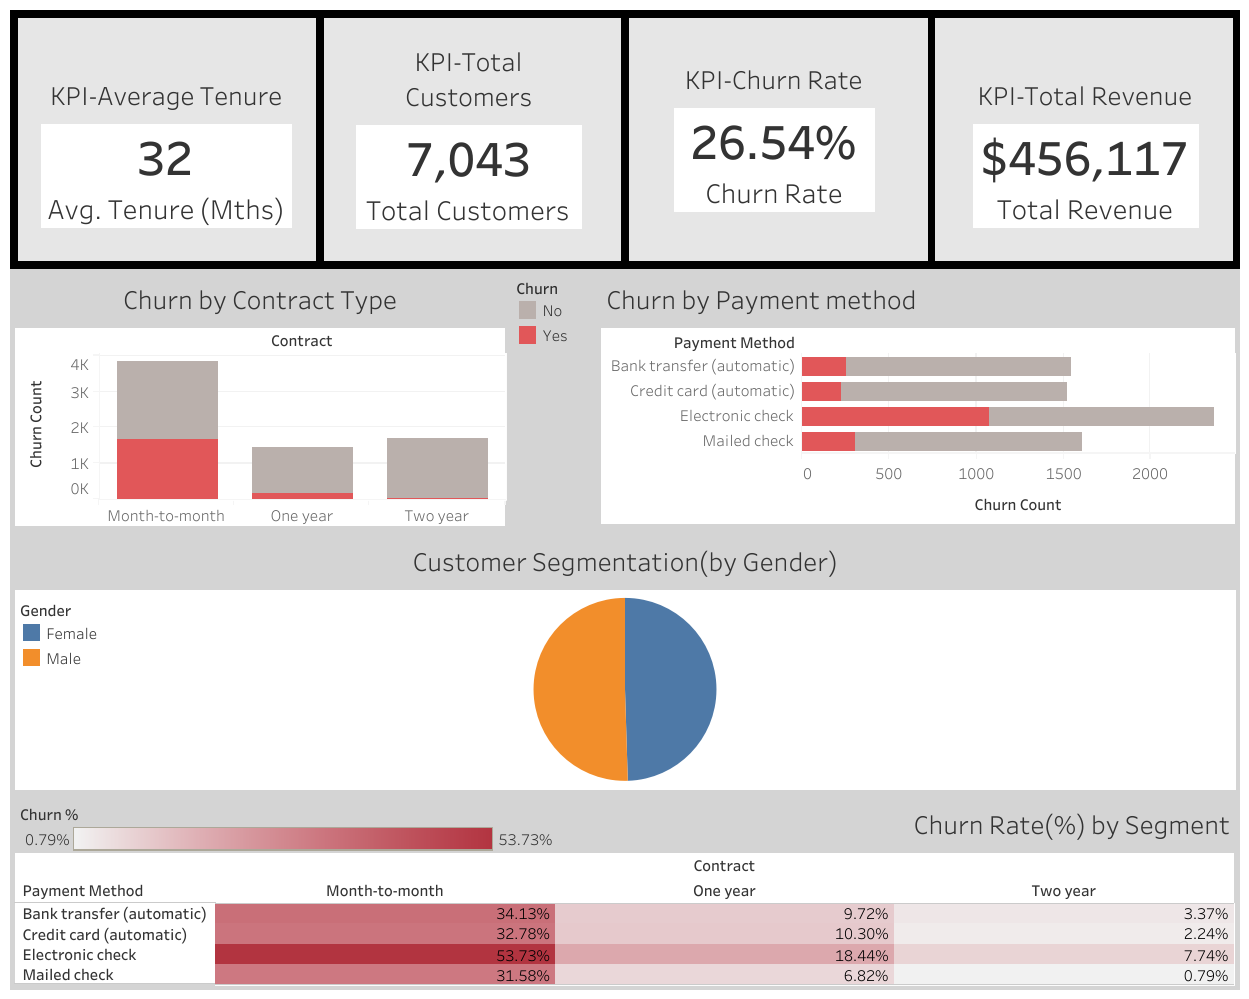

The page's visual inventory and layout, read from the dashboard file:
{"tool":"tableau","page":{"name":"Customer Behavior Analysis (Telco)","canvas":[1000,800],"ordinal":0},"visuals":[{"type":"worksheet","title":"KPI-Average Tenure","mark":"Text","box":[11,11,244.5,201.5]},{"type":"worksheet","title":"KPI-Total Customers","mark":"Text","box":[255.5,11,244.5,201.5]},{"type":"worksheet","title":"KPI-Churn Rate","mark":"Text","box":[500,11,244.5,201.5]},{"type":"worksheet","title":"KPI-Total Revenue","mark":"Text","box":[744.5,11,244.5,201.5]},{"type":"worksheet","title":"Churn by Contract Type","mark":"Bar","rows":["Churn"],"cols":["Contract"],"box":[8,215.5,400,209.5]},{"type":"legend","title":"Churn by Contract Type","param":"[federated.07s0cg114vwj2x13jrnb00qm2zwm].[none:Churn:nk]","box":[408,215.5,69,209.5]},{"type":"worksheet","title":"Churn by Payment method","mark":"Bar","rows":["PaymentMethod"],"cols":["Churn"],"box":[477,215.5,515,208]},{"type":"worksheet","title":"Customer Segmentation","mark":"Pie","box":[8,425,984,210]},{"type":"legend","title":"Customer Segmentation","param":"[federated.07s0cg114vwj2x13jrnb00qm2zwm].[none:gender:nk]","box":[15,477,327,59]},{"type":"worksheet","title":"Churn Rate(%) by Segment","mark":"Square","rows":["PaymentMethod"],"cols":["Contract"],"box":[8,635,984,157]},{"type":"legend","title":"Churn Rate(%) by Segment","param":"[federated.07s0cg114vwj2x13jrnb00qm2zwm].[usr:Calculation_1125955483107384:qk]","box":[16,638,431,61]}]}

Visuals, with their boxes in screenshot pixels (x1, y1, x2, y2), scaled from the page's 1000x800 canvas onto the 1249x999 screenshot:
"KPI-Average Tenure" worksheet (Text marks): <box>14,14,319,265</box>
"KPI-Total Customers" worksheet (Text marks): <box>319,14,624,265</box>
"KPI-Churn Rate" worksheet (Text marks): <box>624,14,930,265</box>
"KPI-Total Revenue" worksheet (Text marks): <box>930,14,1235,265</box>
"Churn by Contract Type" worksheet (Bar marks): <box>10,269,510,531</box>
"Churn by Contract Type" legend: <box>510,269,596,531</box>
"Churn by Payment method" worksheet (Bar marks): <box>596,269,1239,529</box>
"Customer Segmentation" worksheet (Pie marks): <box>10,531,1239,793</box>
"Customer Segmentation" legend: <box>19,596,427,669</box>
"Churn Rate(%) by Segment" worksheet (Square marks): <box>10,793,1239,989</box>
"Churn Rate(%) by Segment" legend: <box>20,797,558,873</box>
